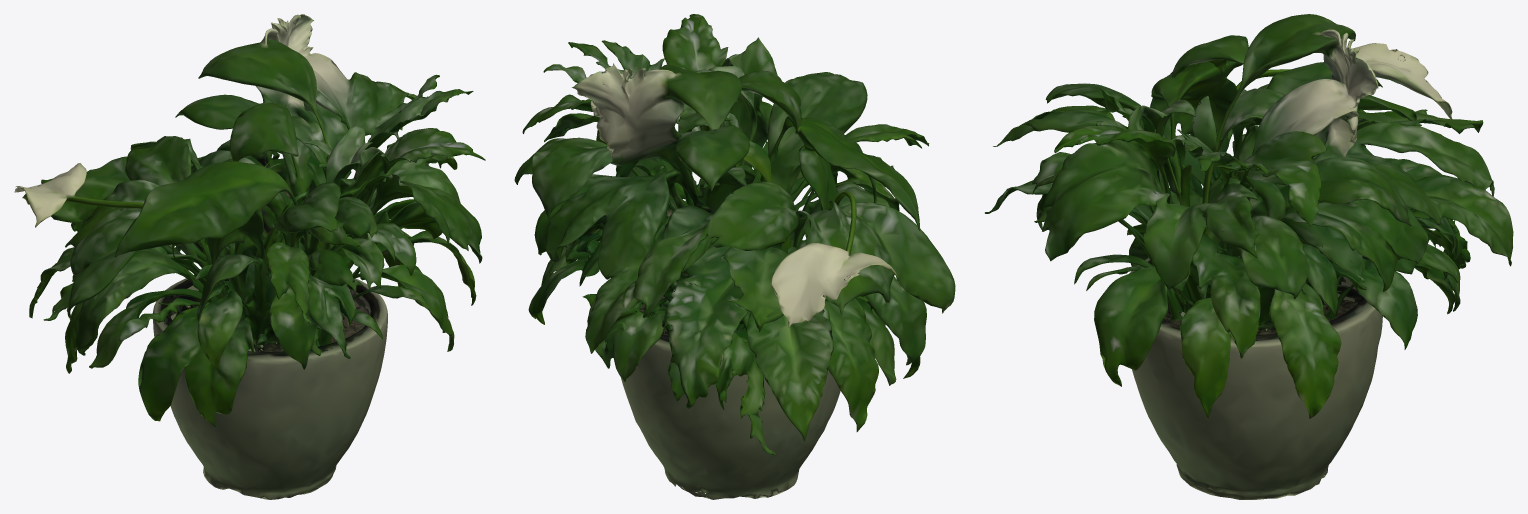
Rendered from peace_lily.glb.
The picture shows the model from 3 angles, left to right: view 1: azimuth 30°, elevation 25°; view 2: azimuth 150°, elevation 25°; view 3: azimuth 270°, elevation 25°; orthographic projection. The views are drawn at different scales.
Bounding box in the file's own units: 0.9754 × 0.9502 × 0.9861.
